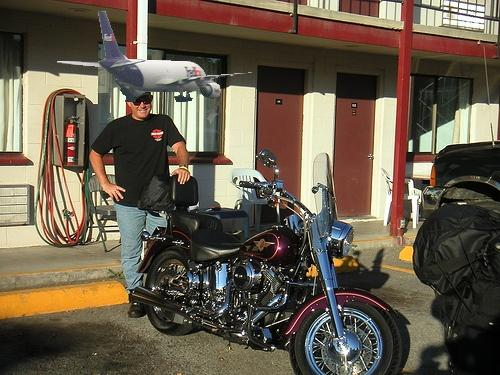tampered: (58, 12, 252, 102)
